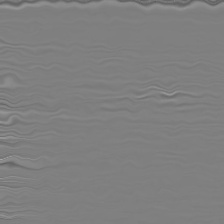cavities: (3, 47, 64, 113), (81, 84, 123, 103)
